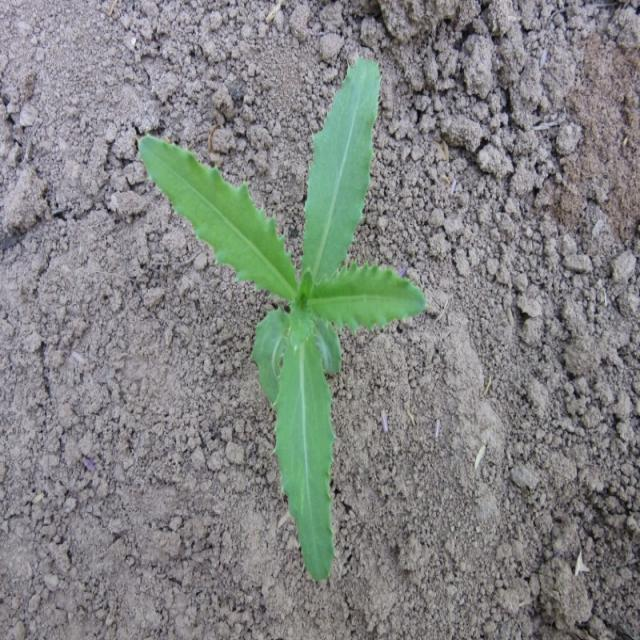cs: (134, 52, 428, 590)
